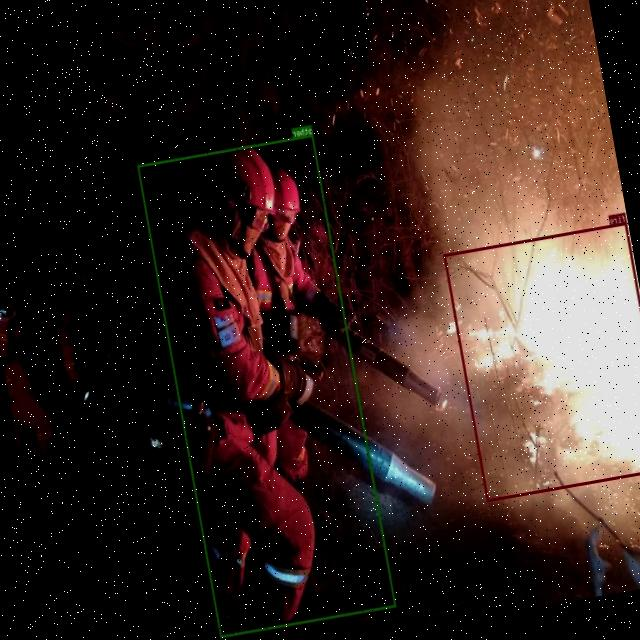fire: (443, 221, 640, 500)
